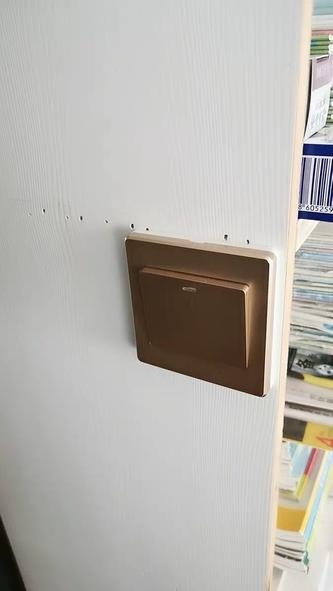switch: (143, 270, 249, 367)
